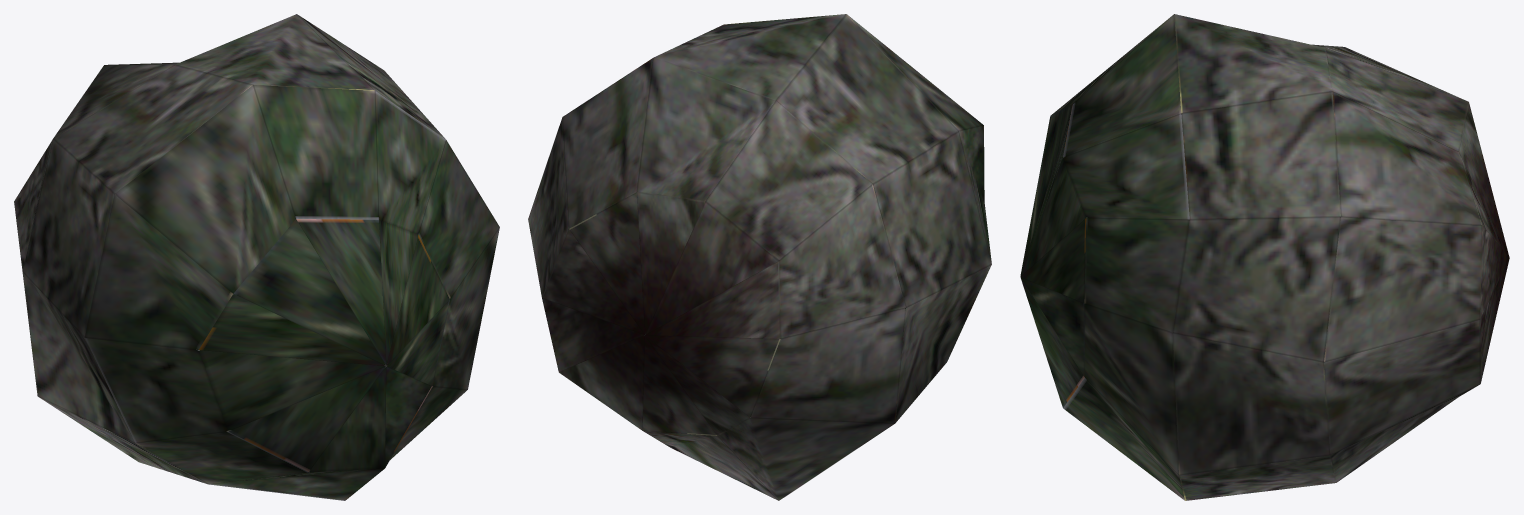
The picture shows the model from 3 angles, left to right: view 1: azimuth 30°, elevation 25°; view 2: azimuth 150°, elevation 25°; view 3: azimuth 270°, elevation 25°; orthographic projection. The views are drawn at different scales.
Parts seen in each view (by area): view 1: T1L5M009_8; view 2: T1L5M009_8; view 3: T1L5M009_8.
Part boxes in pixels (x1,y1,x2,y2): T1L5M009_8: (14, 14, 499, 500); T1L5M009_8: (528, 14, 991, 500); T1L5M009_8: (1020, 14, 1509, 500).
Size of the model in its own units: 4.31 by 4.34 by 4.38.
